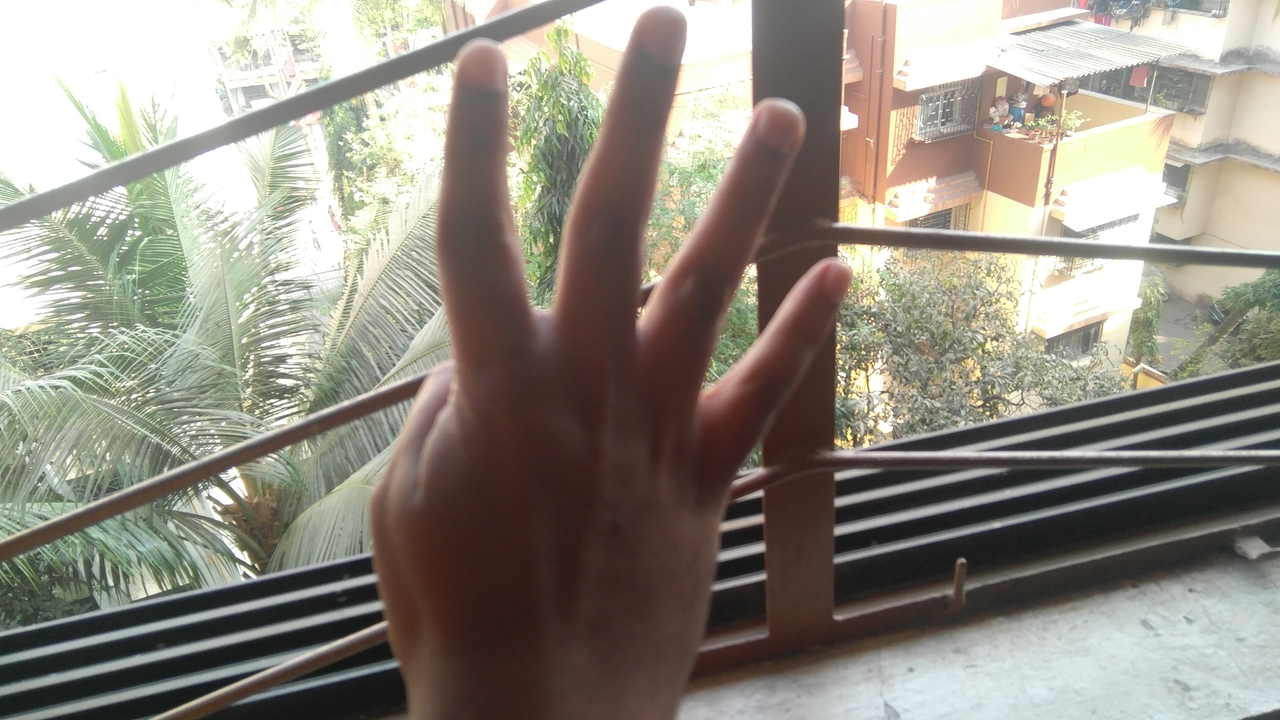fingertip: (746, 92, 810, 150), (632, 0, 688, 58), (794, 254, 852, 308), (450, 36, 508, 88)
